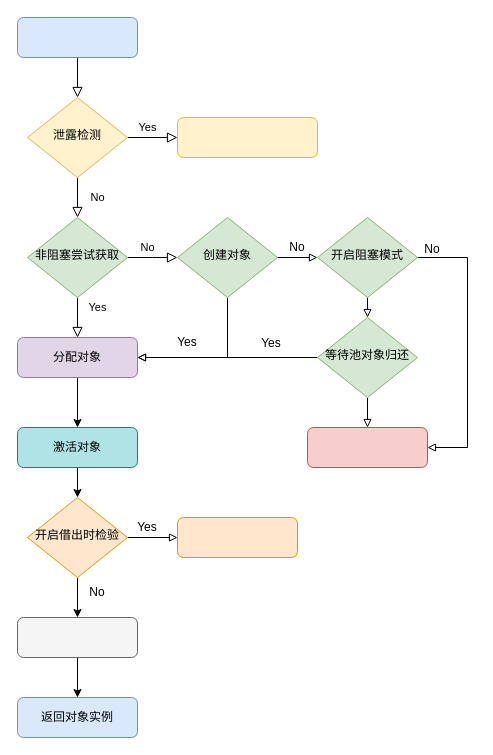
Some shapes in this 493 by 755 pixel diagram are drawn without their labels. The shapes that lost their labels are listed below. From the top down, each one's centre as x and y in pixels, then its label:
the point at 77,37: 获取对象
the point at 247,137: 所有池对象进行泄露检测
the point at 367,447: 获取失败，抛出异常
the point at 237,537: 检验对象有效性
the point at 77,637: 更新借用的统计数据
